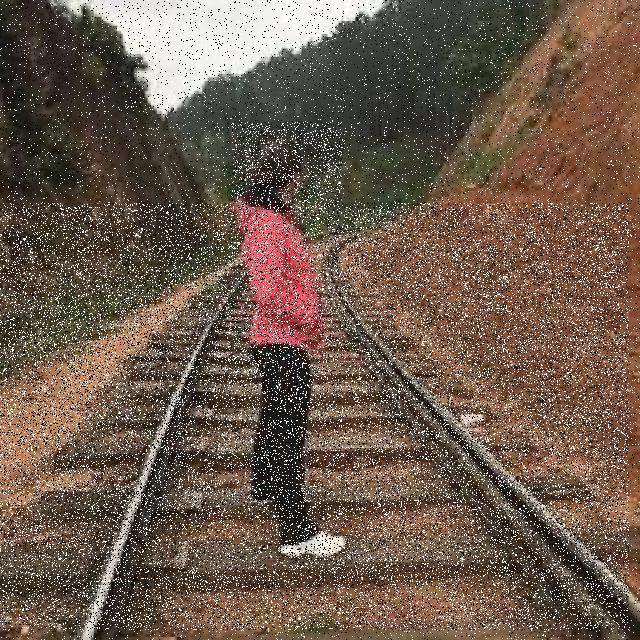danger: (232, 122, 342, 575)
rail: (1, 204, 629, 630)
